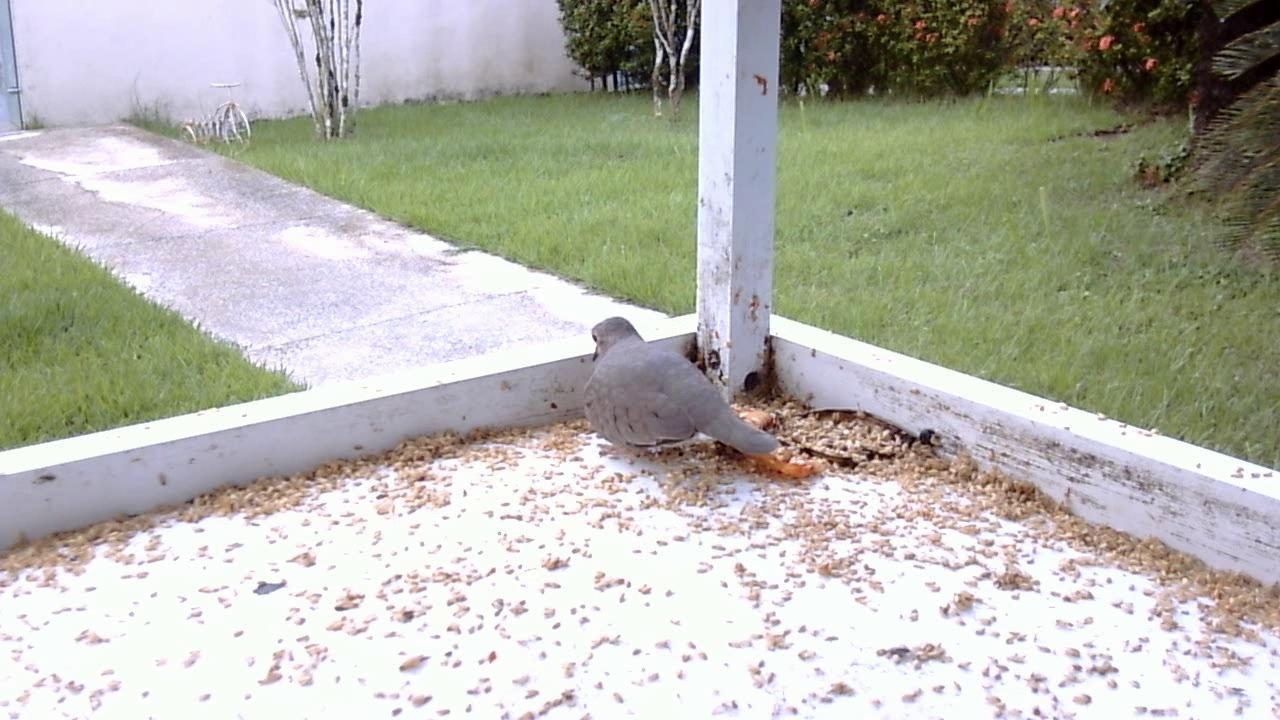rolinha: (570, 310, 786, 471)
